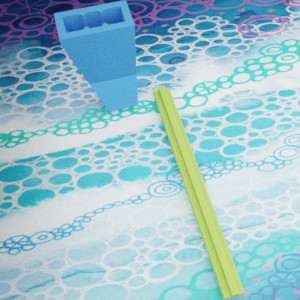lego: (152, 85, 244, 299), (53, 0, 138, 111)
